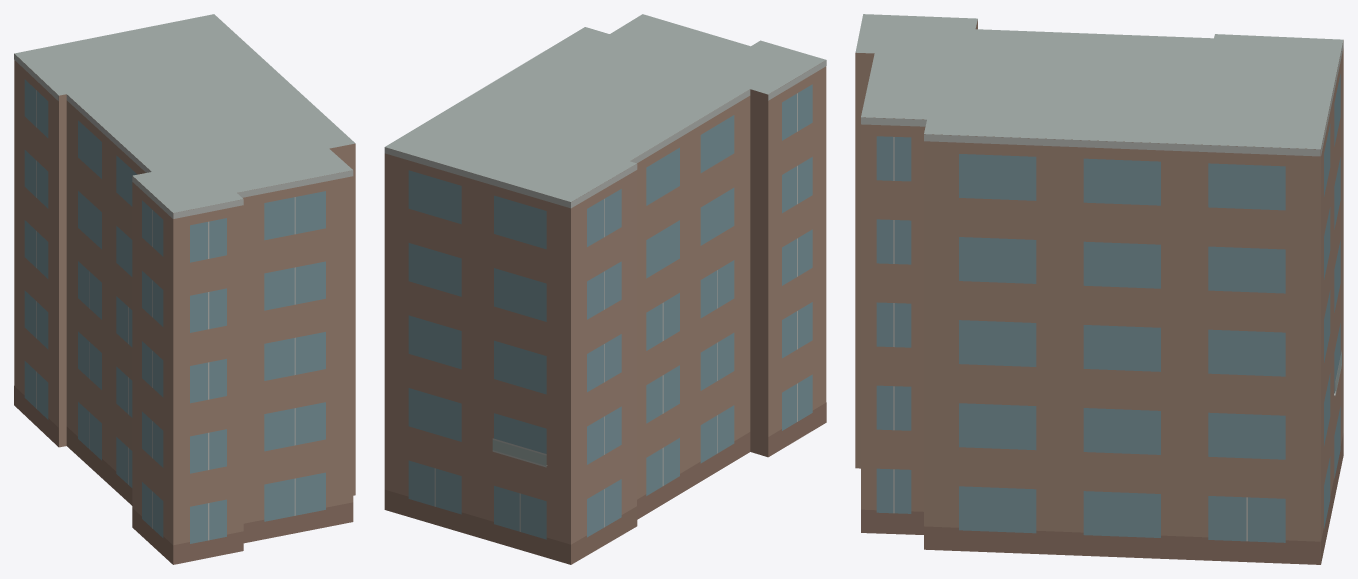
The model's file is survey-upis-32617308.glb.
3 views of the same model, side by side, from view 1: azimuth 30°, elevation 25°; view 2: azimuth 150°, elevation 25°; view 3: azimuth 270°, elevation 25° (orthographic). The views are drawn at different scales.
Parts seen in each view (by area): view 1: survey-upis-32617308.tmp; view 2: survey-upis-32617308.tmp; view 3: survey-upis-32617308.tmp.
Part boxes in pixels (x1=…): survey-upis-32617308.tmp: x1=14, y1=14, x2=355, y2=564; survey-upis-32617308.tmp: x1=384, y1=14, x2=826, y2=564; survey-upis-32617308.tmp: x1=855, y1=14, x2=1343, y2=564.
Size of the model in its own units: 9.85 by 14.1 by 15.02.
